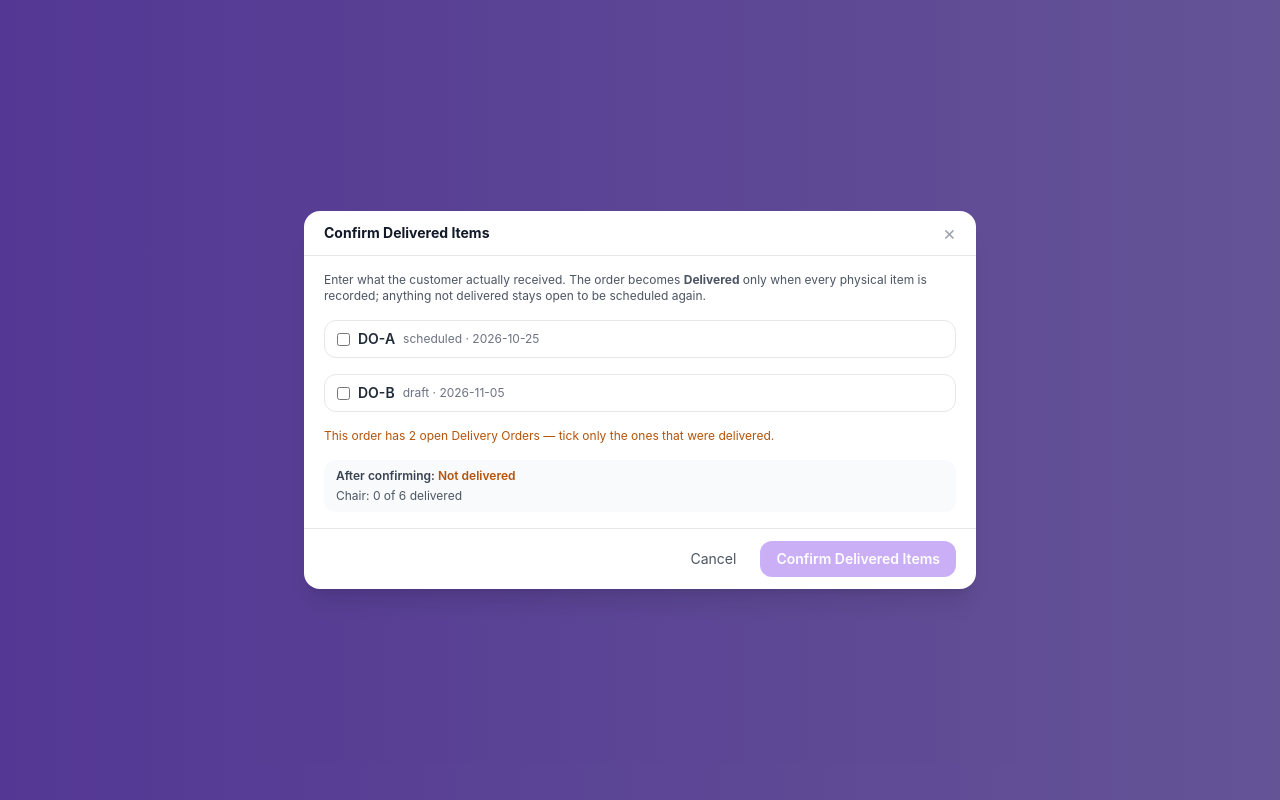
Test: Confirm Delivered Items — dialog › several DOs: nothing ticked → the button stays disabled; ticking one enables it
This screenshot has width=1280, height=800.
Expected: the text "DO-A" is shown, [358, 329, 395, 349]
Expected: the text "tick only the ones that were delivered" is shown, [416, 428, 774, 443]
Click the checkbox named "Delivered on DO-A": point(344, 339) [337, 332, 350, 346]
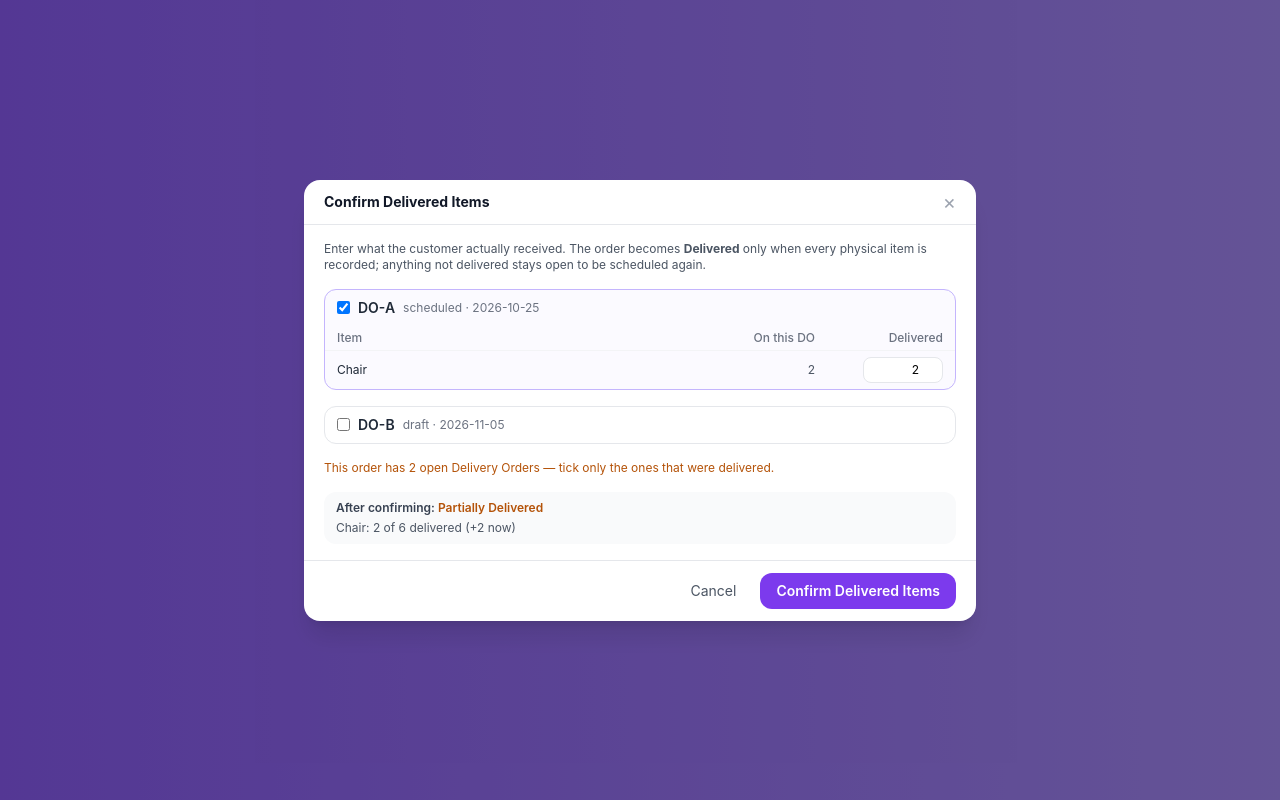
Expected: the button "Confirm Delivered Items" is enabled, [760, 572, 956, 608]
